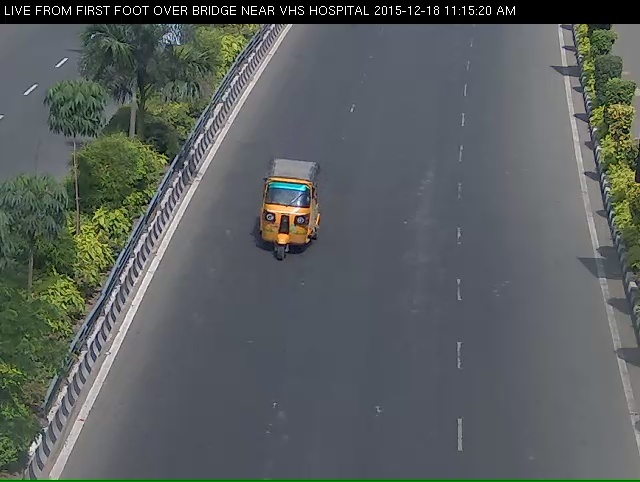Auto: (248, 163, 324, 273)
